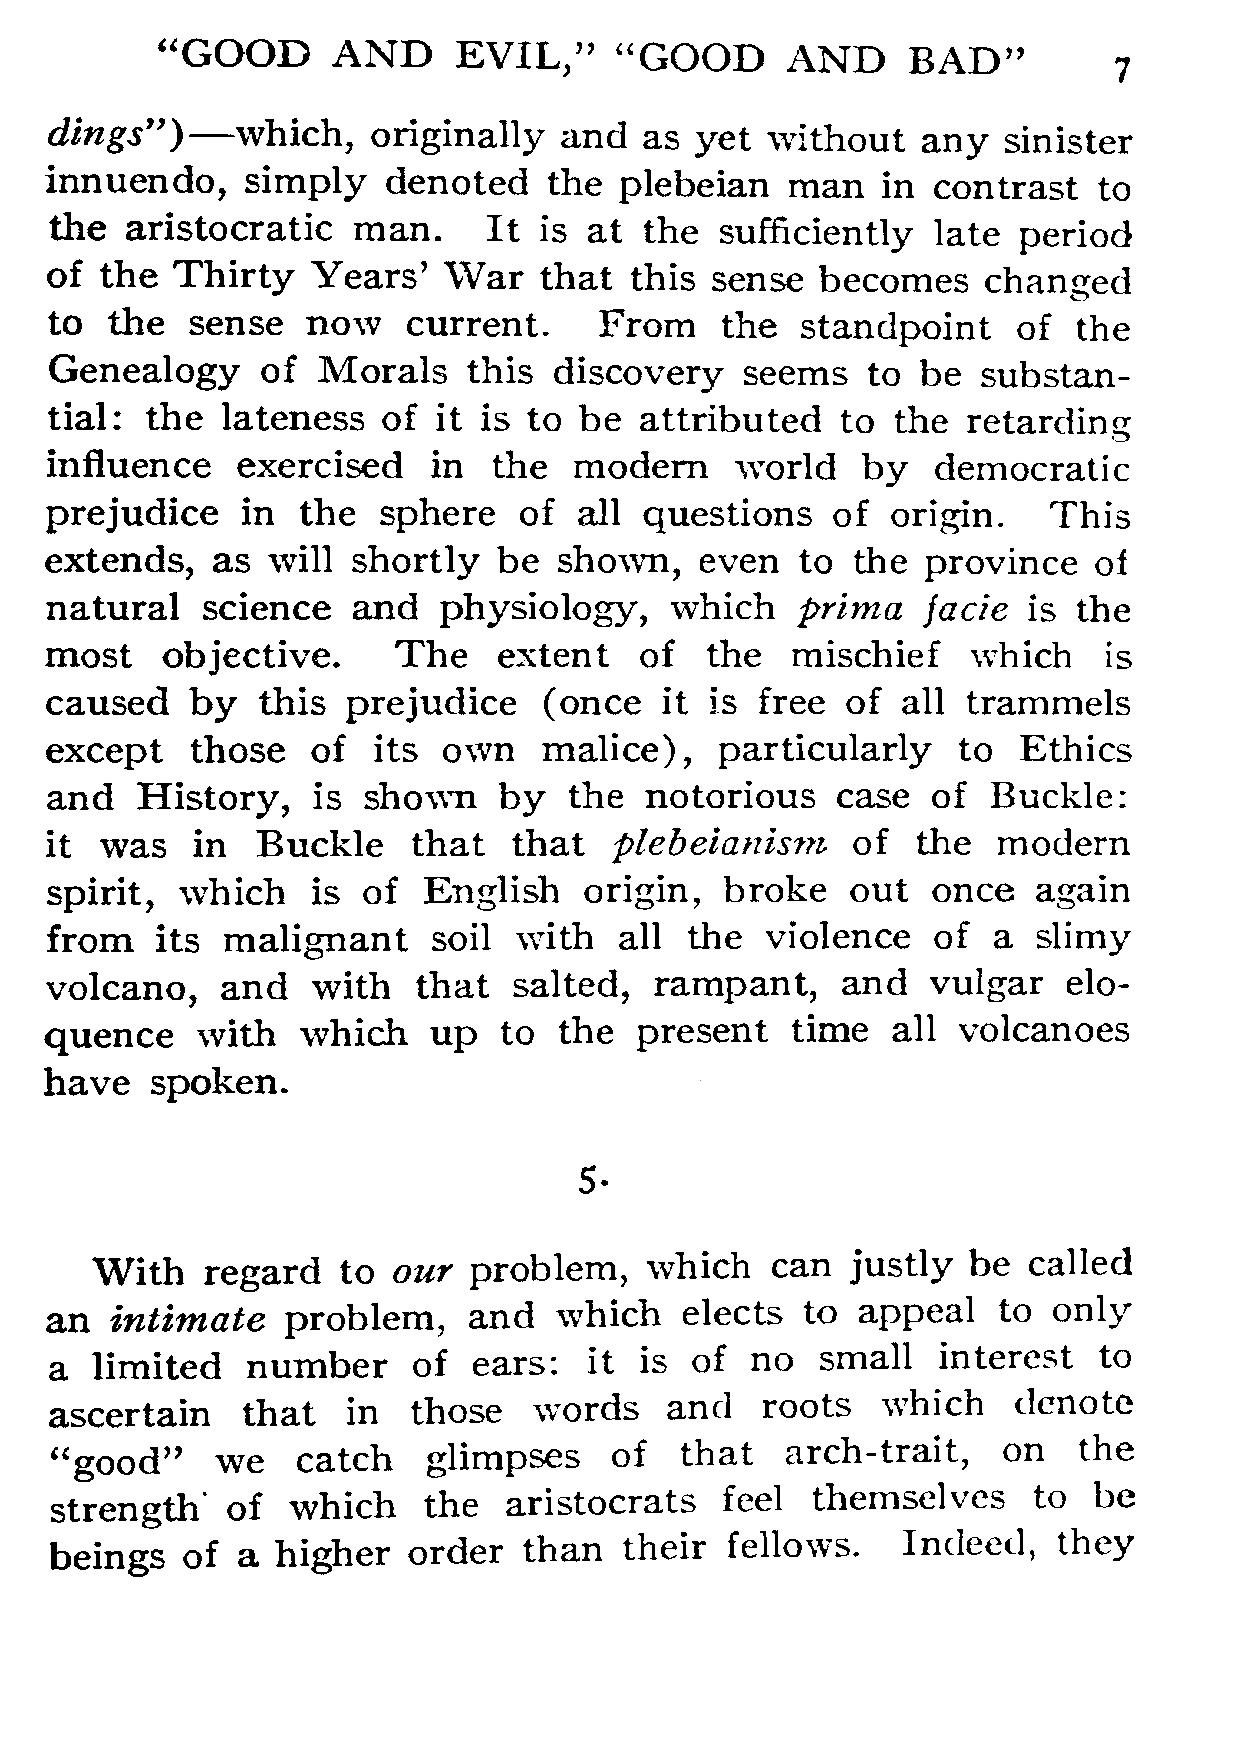content: (38, 111, 1138, 1580)
content_chapter: (156, 30, 1024, 78)
content_pagenumber: (1107, 52, 1134, 85)
